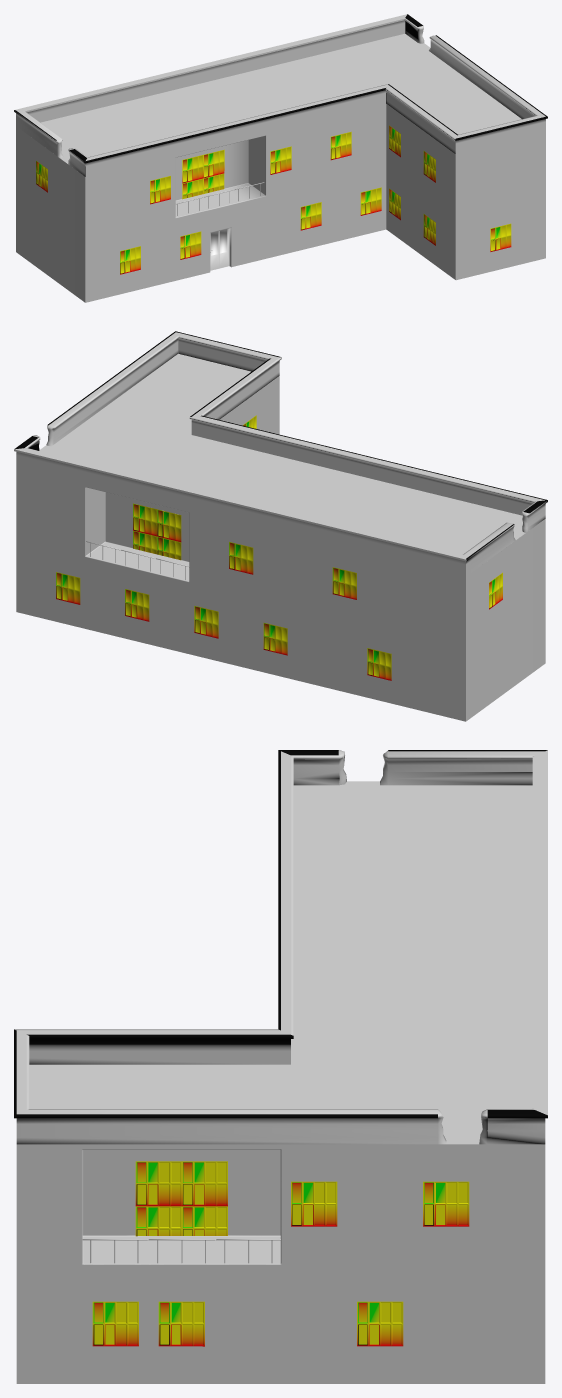
File: L_building.fbx
3 views of the same model, one above another, from view 1: azimuth 30°, elevation 25°; view 2: azimuth 150°, elevation 25°; view 3: azimuth 270°, elevation 25° (orthographic). The views are drawn at different scales.
Parts seen in each view (by area): view 1: L_Bulding_front, Object170, L_Building_Left, Top_Wall_Front, Top_Wall_Back, Object182, Top_Wall_Left, Top_Wall_Right, Object190, door_lp; view 2: L_Bulding_back, Object170, L_Building_Left, Top_Wall_Back, Top_Wall_Front, Object197, Top_Wall_Left, Top_Wall_Right, Object190; view 3: L_Building_right, Object170, finestra_v3_lp007, Top_Wall_Right, Top_Wall_Left, Top_Wall_Front, Top_Wall_Back, railing_01_LP002.
Boxes of the visible parts, box(x1,y1,x2,y2) form: L_Bulding_front: box(85, 103, 545, 302); Object170: box(41, 33, 521, 163); L_Building_Left: box(16, 104, 455, 302); Top_Wall_Front: box(85, 84, 547, 176); Top_Wall_Back: box(14, 14, 407, 122); Object182: box(120, 131, 511, 274); Top_Wall_Left: box(14, 84, 457, 176); Top_Wall_Right: box(404, 14, 547, 119); Object190: box(36, 125, 435, 245); door_lp: box(210, 228, 229, 270); L_Bulding_back: box(16, 467, 465, 721); Object170: box(39, 353, 525, 554); L_Building_Left: box(219, 376, 545, 721); Top_Wall_Back: box(14, 448, 466, 576); Top_Wall_Front: box(175, 331, 547, 515); Object197: box(56, 503, 391, 680); Top_Wall_Left: box(190, 357, 547, 576); Top_Wall_Right: box(14, 331, 178, 450); Object190: box(243, 415, 502, 609); L_Building_right: box(16, 1144, 545, 1383); Object170: box(29, 781, 532, 1144); finestra_v3_lp007: box(92, 1161, 469, 1346); Top_Wall_Right: box(14, 1109, 547, 1144); Top_Wall_Left: box(14, 750, 547, 1064); Top_Wall_Front: box(14, 750, 293, 1115); Top_Wall_Back: box(532, 750, 547, 1115); railing_01_LP002: box(82, 1239, 280, 1263).
Bounding box in the file's own units: 26.16 × 9.01 × 16.16.
